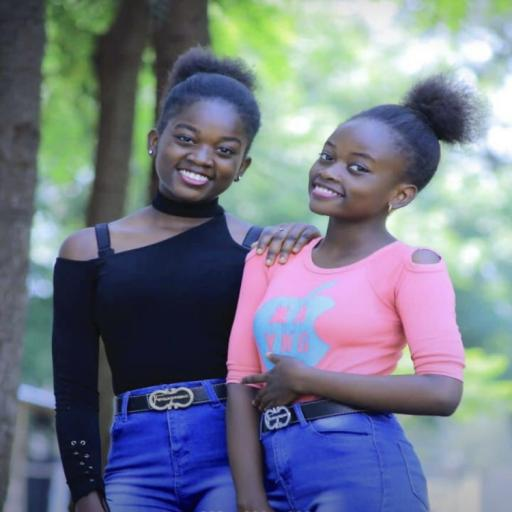LAURENE: (142, 46, 260, 216)
